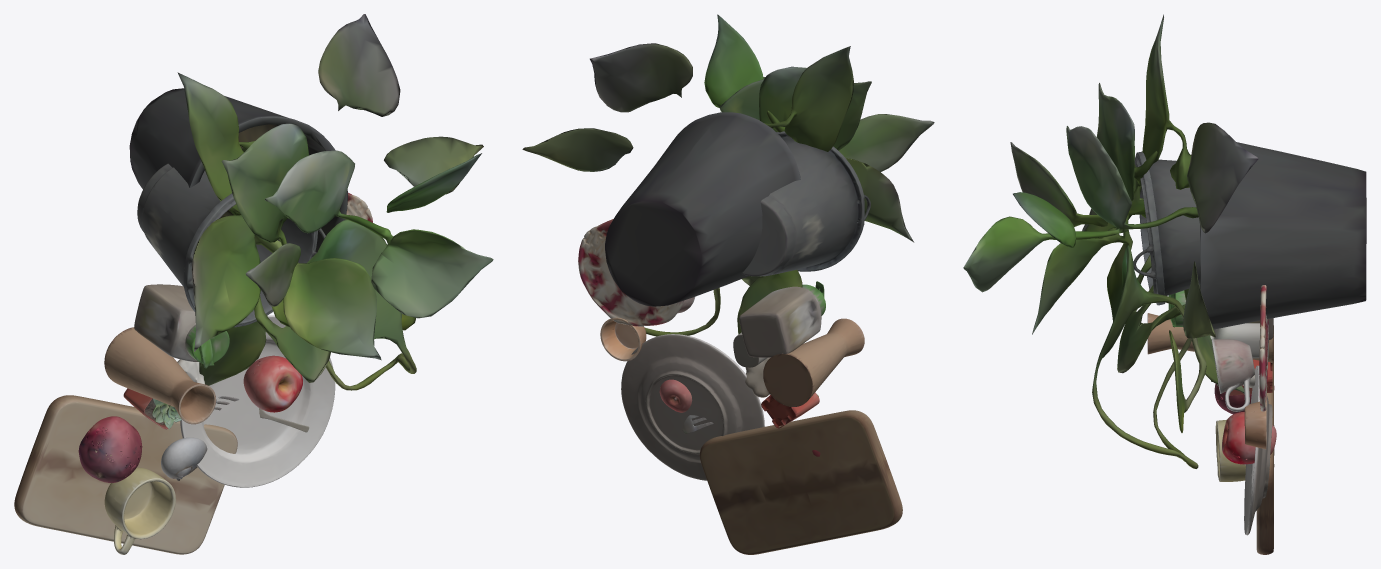
Rendered from kitchen-objects.glb.
The picture shows the model from 3 angles, left to right: view 1: azimuth 30°, elevation 25°; view 2: azimuth 150°, elevation 25°; view 3: azimuth 270°, elevation 25°; orthographic projection. The views are drawn at different scales.
Parts seen in each view (by area): view 1: pothos houseplant, wooden cutting board, dinner plate, plastic plant pot, terracotta vase, spice jar, ceramic mug, red onion, red apple, moon snail shell (seashell), potted succulent; view 2: pothos houseplant, wooden cutting board, dinner plate, plastic plant pot, spice jar, terracotta vase, woven trivet, terracotta bowl with dark liquid, potted succulent, red apple, garlic bulb, ceramic bottle; view 3: pothos houseplant, plastic plant pot, ceramic teacup, dinner plate, wooden cutting board, red apple, terracotta vase, woven trivet, terracotta bowl with dark liquid, ceramic bottle, ceramic mug.
Boxes of the visible parts, x1,y1,x2,y2 form: pothos houseplant: [129, 14, 493, 390]; wooden cutting board: [14, 395, 237, 554]; dinner plate: [180, 315, 335, 487]; plastic plant pot: [137, 163, 325, 327]; terracotta vase: [104, 327, 216, 424]; spice jar: [134, 284, 229, 368]; ceramic mug: [104, 467, 175, 554]; red onion: [78, 416, 142, 482]; red apple: [243, 355, 302, 412]; moon snail shell (seashell): [161, 437, 207, 480]; potted succulent: [123, 388, 181, 429]; pothos houseplant: [522, 14, 934, 336]; wooden cutting board: [699, 410, 902, 554]; dinner plate: [621, 334, 764, 480]; plastic plant pot: [741, 131, 870, 276]; spice jar: [739, 281, 825, 357]; terracotta vase: [763, 318, 864, 406]; woven trivet: [578, 219, 683, 326]; terracotta bowl with dark liquid: [600, 317, 646, 361]; potted succulent: [761, 392, 819, 428]; red apple: [659, 379, 692, 412]; garlic bulb: [745, 357, 770, 397]; ceramic bottle: [733, 332, 767, 367]; pothos houseplant: [963, 14, 1366, 468]; plastic plant pot: [1133, 151, 1200, 305]; ceramic teacup: [1211, 339, 1254, 411]; dinner plate: [1244, 365, 1272, 535]; wooden cutting board: [1256, 325, 1274, 554]; red apple: [1222, 412, 1276, 464]; terracotta vase: [1147, 313, 1273, 363]; woven trivet: [1259, 285, 1268, 411]; terracotta bowl with dark liquid: [1244, 400, 1266, 449]; ceramic bottle: [1210, 323, 1268, 358]; ceramic mug: [1215, 419, 1245, 481].
Size of the model in its own units: 1.35 by 1.55 by 1.11.
